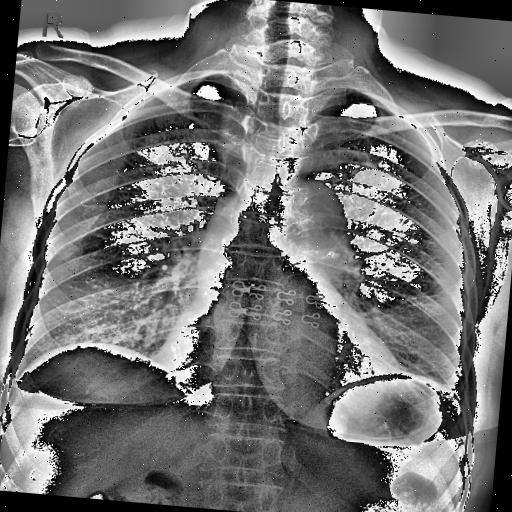0- Aortic enlargement: (193, 168, 349, 301), (258, 174, 353, 264), (276, 178, 354, 252)
3- Cardiomegaly: (150, 316, 414, 402)
